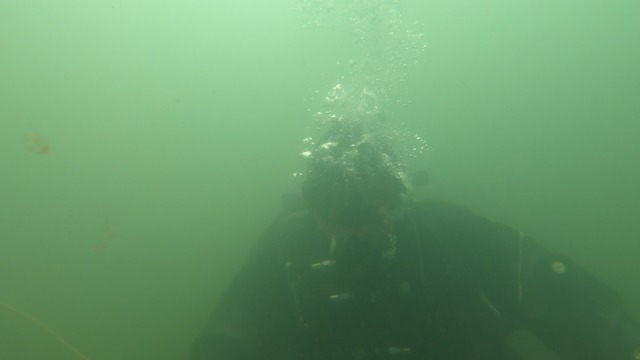Diver: (145, 92, 632, 354)
Head: (302, 112, 410, 295)
